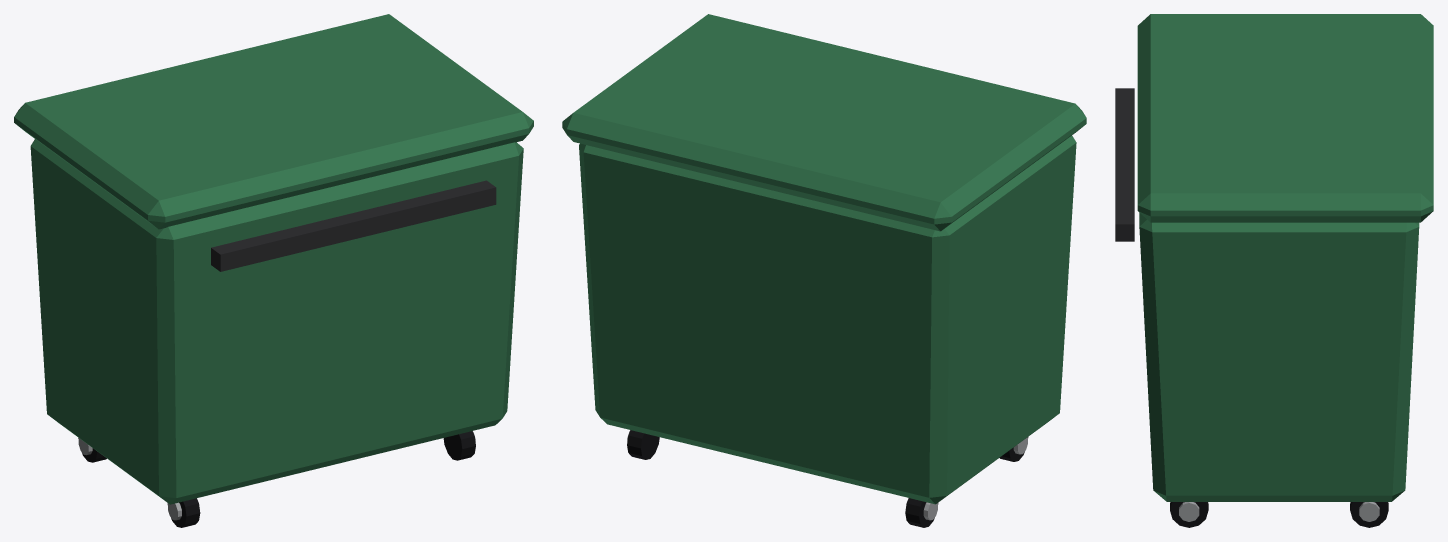
File: conteneur.glb
3 renders of one model, left to right at view 1: azimuth 30°, elevation 25°; view 2: azimuth 150°, elevation 25°; view 3: azimuth 270°, elevation 25°, orthographic.
Visible parts, largest first — view 1: Cuve, Couvercle, Poignee, Roulette.002; view 2: Cuve, Couvercle, Roulette.003; view 3: Cuve, Couvercle, Poignee, Roulette.003, Roulette.002.
Part boxes in pixels (x1=…): Cuve: x1=30, y1=139, x2=523, y2=504; Couvercle: x1=14, y1=14, x2=533, y2=229; Poignee: x1=211, y1=180, x2=496, y2=271; Roulette.002: x1=443, y1=431, x2=475, y2=460; Cuve: x1=579, y1=135, x2=1076, y2=504; Couvercle: x1=562, y1=14, x2=1086, y2=231; Roulette.003: x1=627, y1=430, x2=659, y2=459; Cuve: x1=1139, y1=213, x2=1419, y2=501; Couvercle: x1=1137, y1=14, x2=1433, y2=222; Poignee: x1=1115, y1=88, x2=1134, y2=241; Roulette.003: x1=1350, y1=502, x2=1388, y2=527; Roulette.002: x1=1170, y1=502, x2=1208, y2=527.
Bounding box in the file's own units: 1.4 × 1.21 × 0.99.
